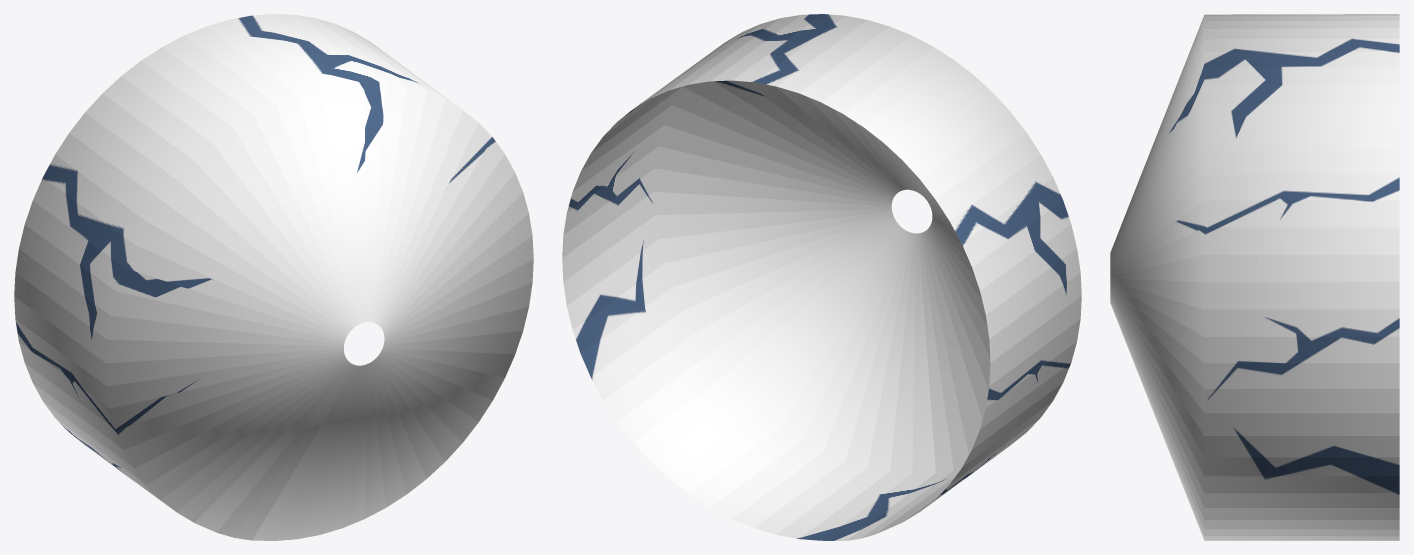
Rendered from CrackEffectModel.fbx.
The picture shows the model from 3 angles, left to right: view 1: azimuth 30°, elevation 25°; view 2: azimuth 150°, elevation 25°; view 3: azimuth 270°, elevation 25°; orthographic projection. The views are drawn at different scales.
Visible parts, largest first — view 1: pCylinder30; view 2: pCylinder30; view 3: pCylinder30.
Part boxes in pixels (x1,y1,x2,y2): pCylinder30: [14, 14, 533, 540]; pCylinder30: [562, 14, 1081, 540]; pCylinder30: [1110, 14, 1399, 540].
Size of the model in its own units: 2.02 by 2.02 by 1.11.
